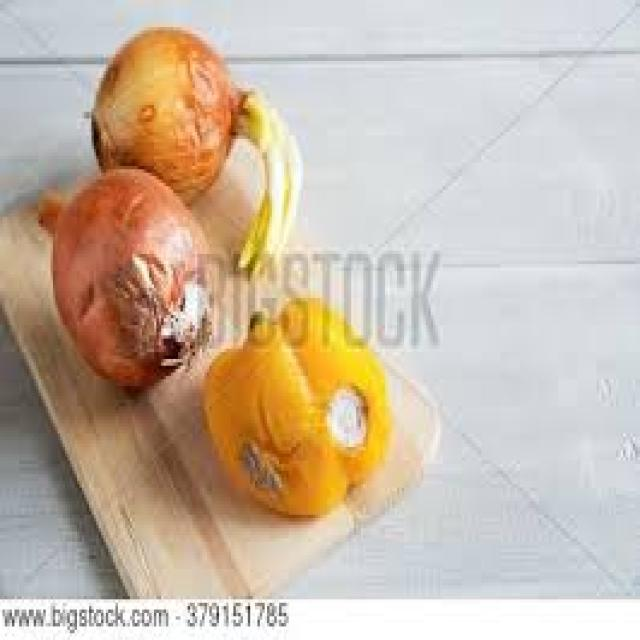biodegradable: (202, 295, 387, 515), (36, 163, 212, 386), (87, 24, 234, 203), (231, 85, 301, 271)
